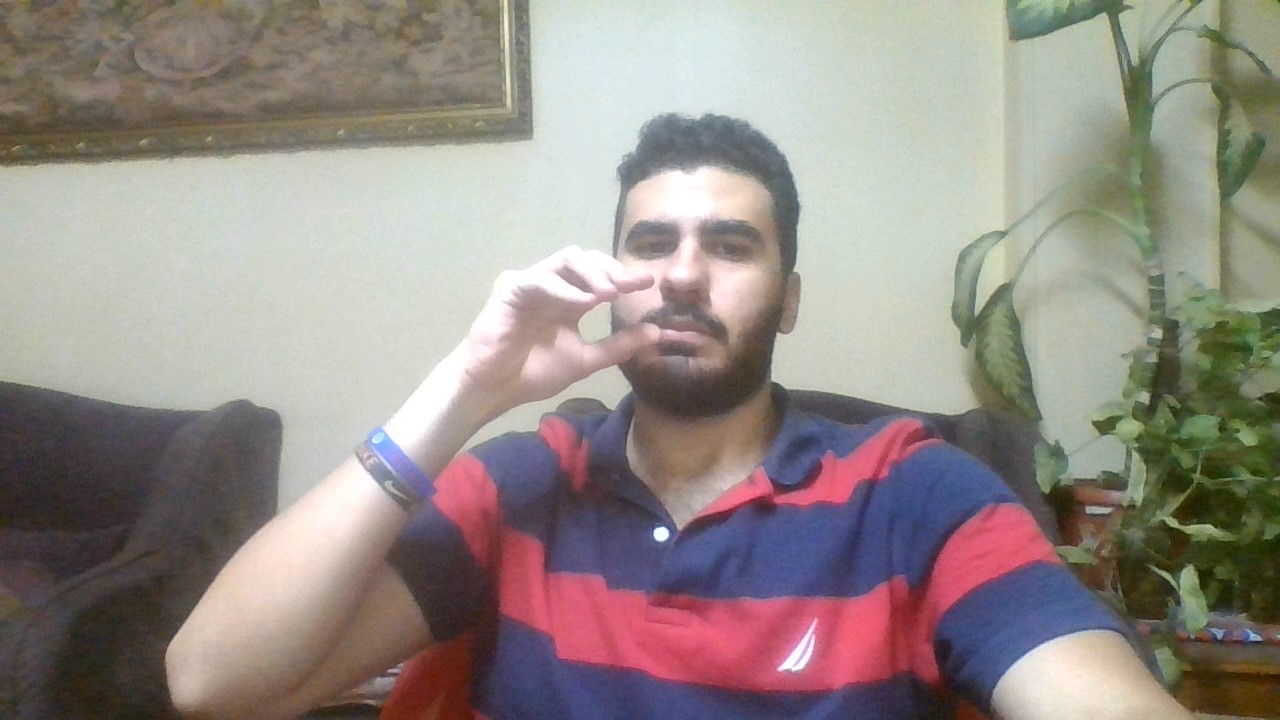drink: (471, 241, 662, 397)
